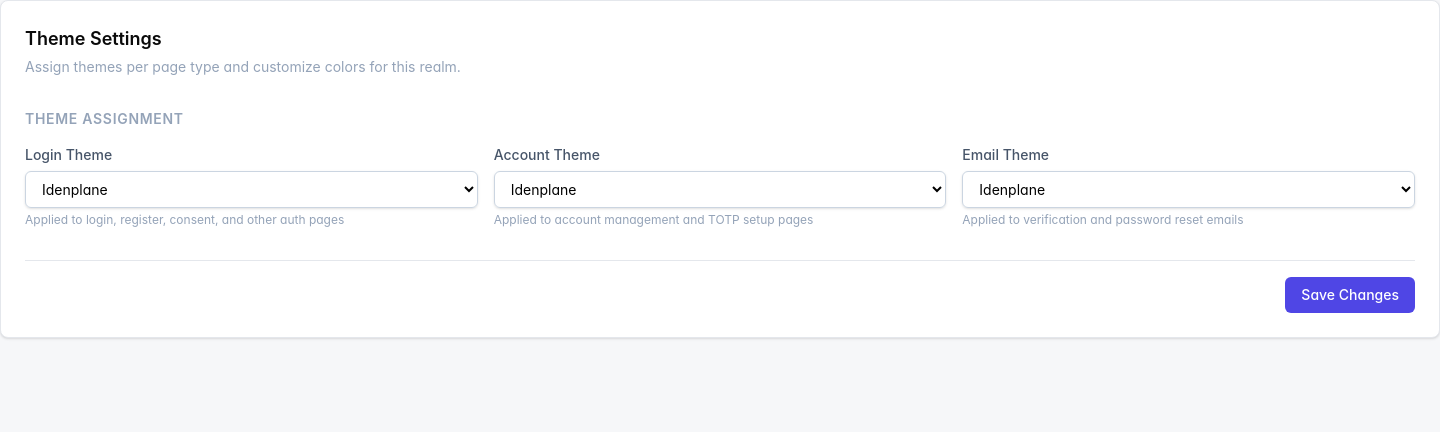
Scenario: ThemeSettingsForm › submits only the theme fields and shows a success banner
Click the button "Save Changes". click: x=1350, y=295
box: [1285,277,1415,313]
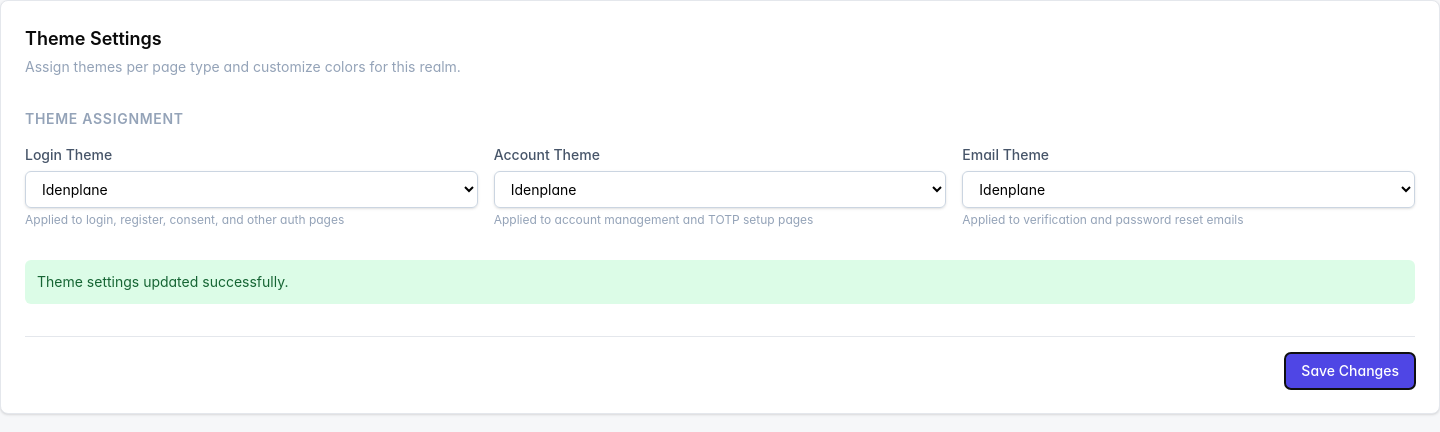
Expected: the text "Theme settings updated successfully." is shown, [25,260,1415,304]
